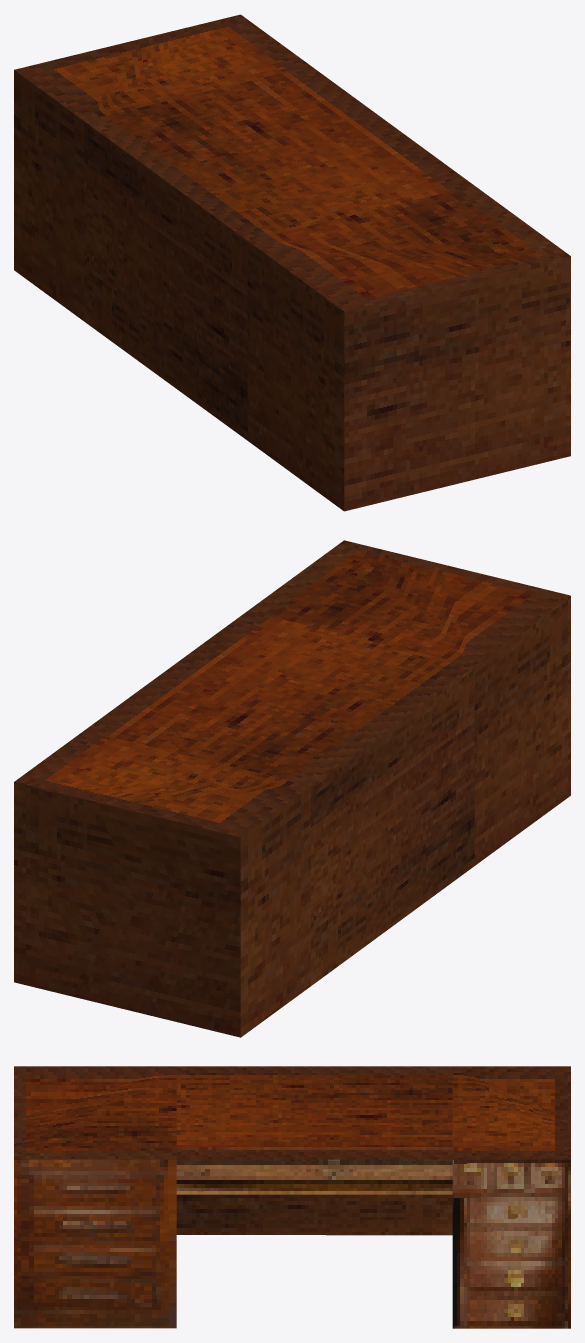
The model's file is desk.gltf.
3 renders of one model, top to bottom at view 1: azimuth 30°, elevation 25°; view 2: azimuth 150°, elevation 25°; view 3: azimuth 270°, elevation 25°, orthographic. The views are drawn at different scales.
Parts seen in each view (by area): view 1: Cube; view 2: Cube; view 3: Cube.
Part boxes in pixels (x1,y1,x2,y2): Cube: [14, 14, 570, 511]; Cube: [14, 540, 570, 1037]; Cube: [14, 1066, 570, 1328].
Size of the model in its own units: 2 by 1.69 by 5.04.
1 material, 1 textured.
